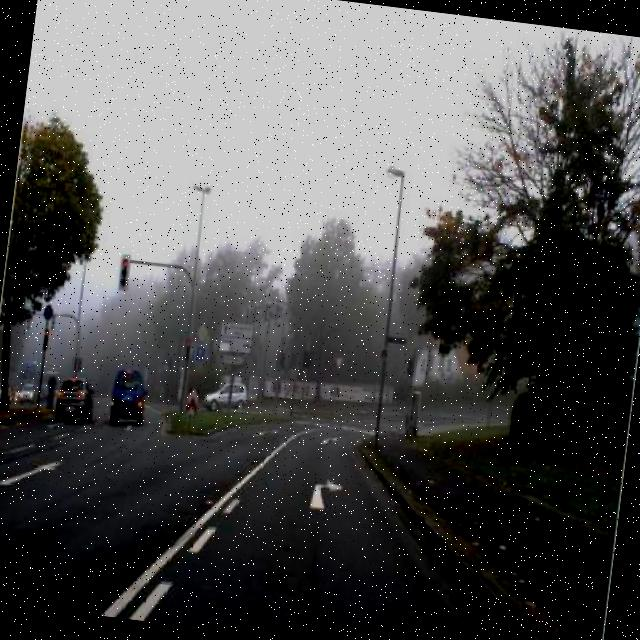Ustap pierwszenstwa: (330, 352, 345, 372)
